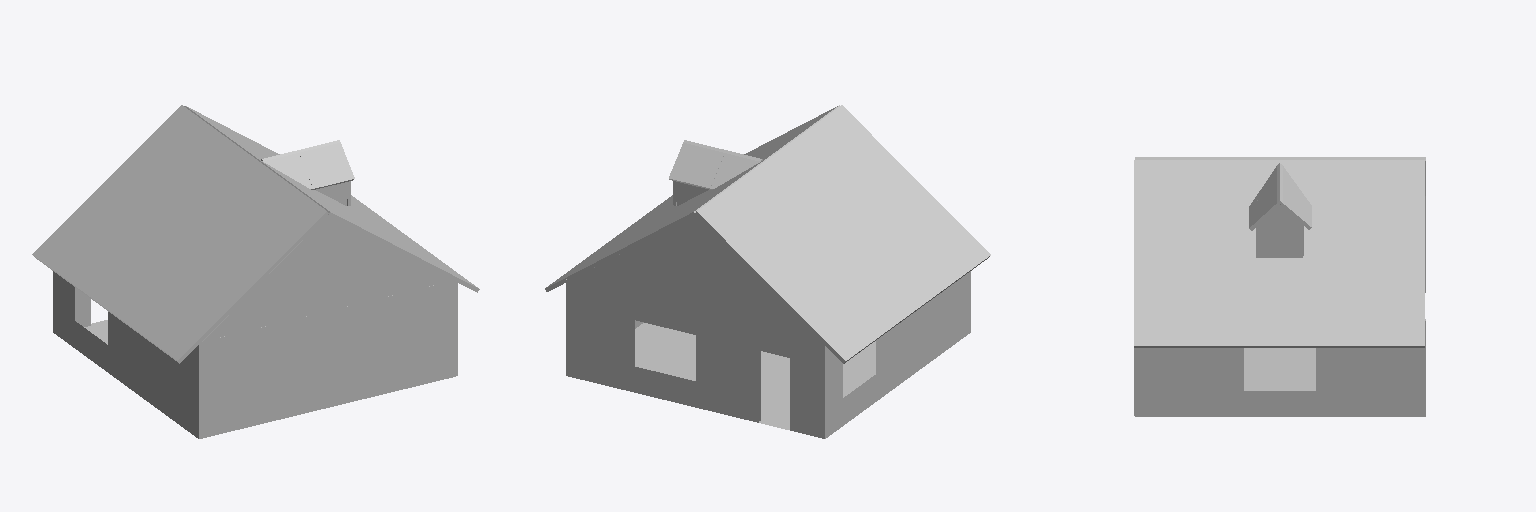
Rendered from casa prueba.obj.
The picture shows the model from 3 angles: view 1: azimuth 30°, elevation 25°; view 2: azimuth 150°, elevation 25°; view 3: azimuth 270°, elevation 25°; orthographic projection.
Parts seen in each view (by area): view 1: Cubo.020_Cubo.018, Cubo_Cubo.001, Cubo.018_Cubo.025, Cubo.014_Cubo.015, Cubo.019_Cubo.017, Cubo.025_Cubo.019, Cubo.027, Cubo.016_Cubo.020; view 2: Cubo.020_Cubo.018, Cubo.016_Cubo.020, Cubo.017_Cubo.024, Cubo.014_Cubo.015, Plano.002, Cubo.019_Cubo.017, Cubo.024_Cubo, Cubo.026; view 3: Cubo.019_Cubo.017, Cubo.015_Cubo.016, Plano.002, Cubo.023, Cubo.020_Cubo.018, Cubo.024_Cubo, Cubo.025_Cubo.019, Cubo.014_Cubo.015.
Part boxes in pixels (x1,y1,x2,y2): Cubo.020_Cubo.018: (32, 105, 328, 363); Cubo_Cubo.001: (202, 281, 453, 438); Cubo.018_Cubo.025: (202, 215, 453, 341); Cubo.014_Cubo.015: (53, 271, 201, 438); Cubo.019_Cubo.017: (184, 106, 479, 292); Cubo.025_Cubo.019: (299, 143, 354, 189); Cubo.027: (263, 153, 312, 189); Cubo.016_Cubo.020: (75, 287, 107, 326); Cubo.020_Cubo.018: (695, 105, 990, 363); Cubo.016_Cubo.020: (570, 281, 820, 437); Cubo.017_Cubo.024: (570, 215, 820, 341); Cubo.014_Cubo.015: (821, 271, 970, 438); Plano.002: (635, 323, 875, 428); Cubo.019_Cubo.017: (545, 105, 839, 291); Cubo.024_Cubo: (669, 143, 724, 189); Cubo.026: (710, 153, 759, 189); Cubo.019_Cubo.017: (1134, 160, 1424, 347); Cubo.015_Cubo.016: (1135, 319, 1425, 416); Plano.002: (1244, 348, 1315, 390); Cubo.023: (1256, 206, 1302, 257); Cubo.020_Cubo.018: (1135, 157, 1425, 195); Cubo.024_Cubo: (1280, 183, 1311, 229); Cubo.025_Cubo.019: (1249, 183, 1279, 230); Cubo.014_Cubo.015: (1268, 196, 1425, 292).
Bounding box in the file's own units: 265 × 165 × 222.